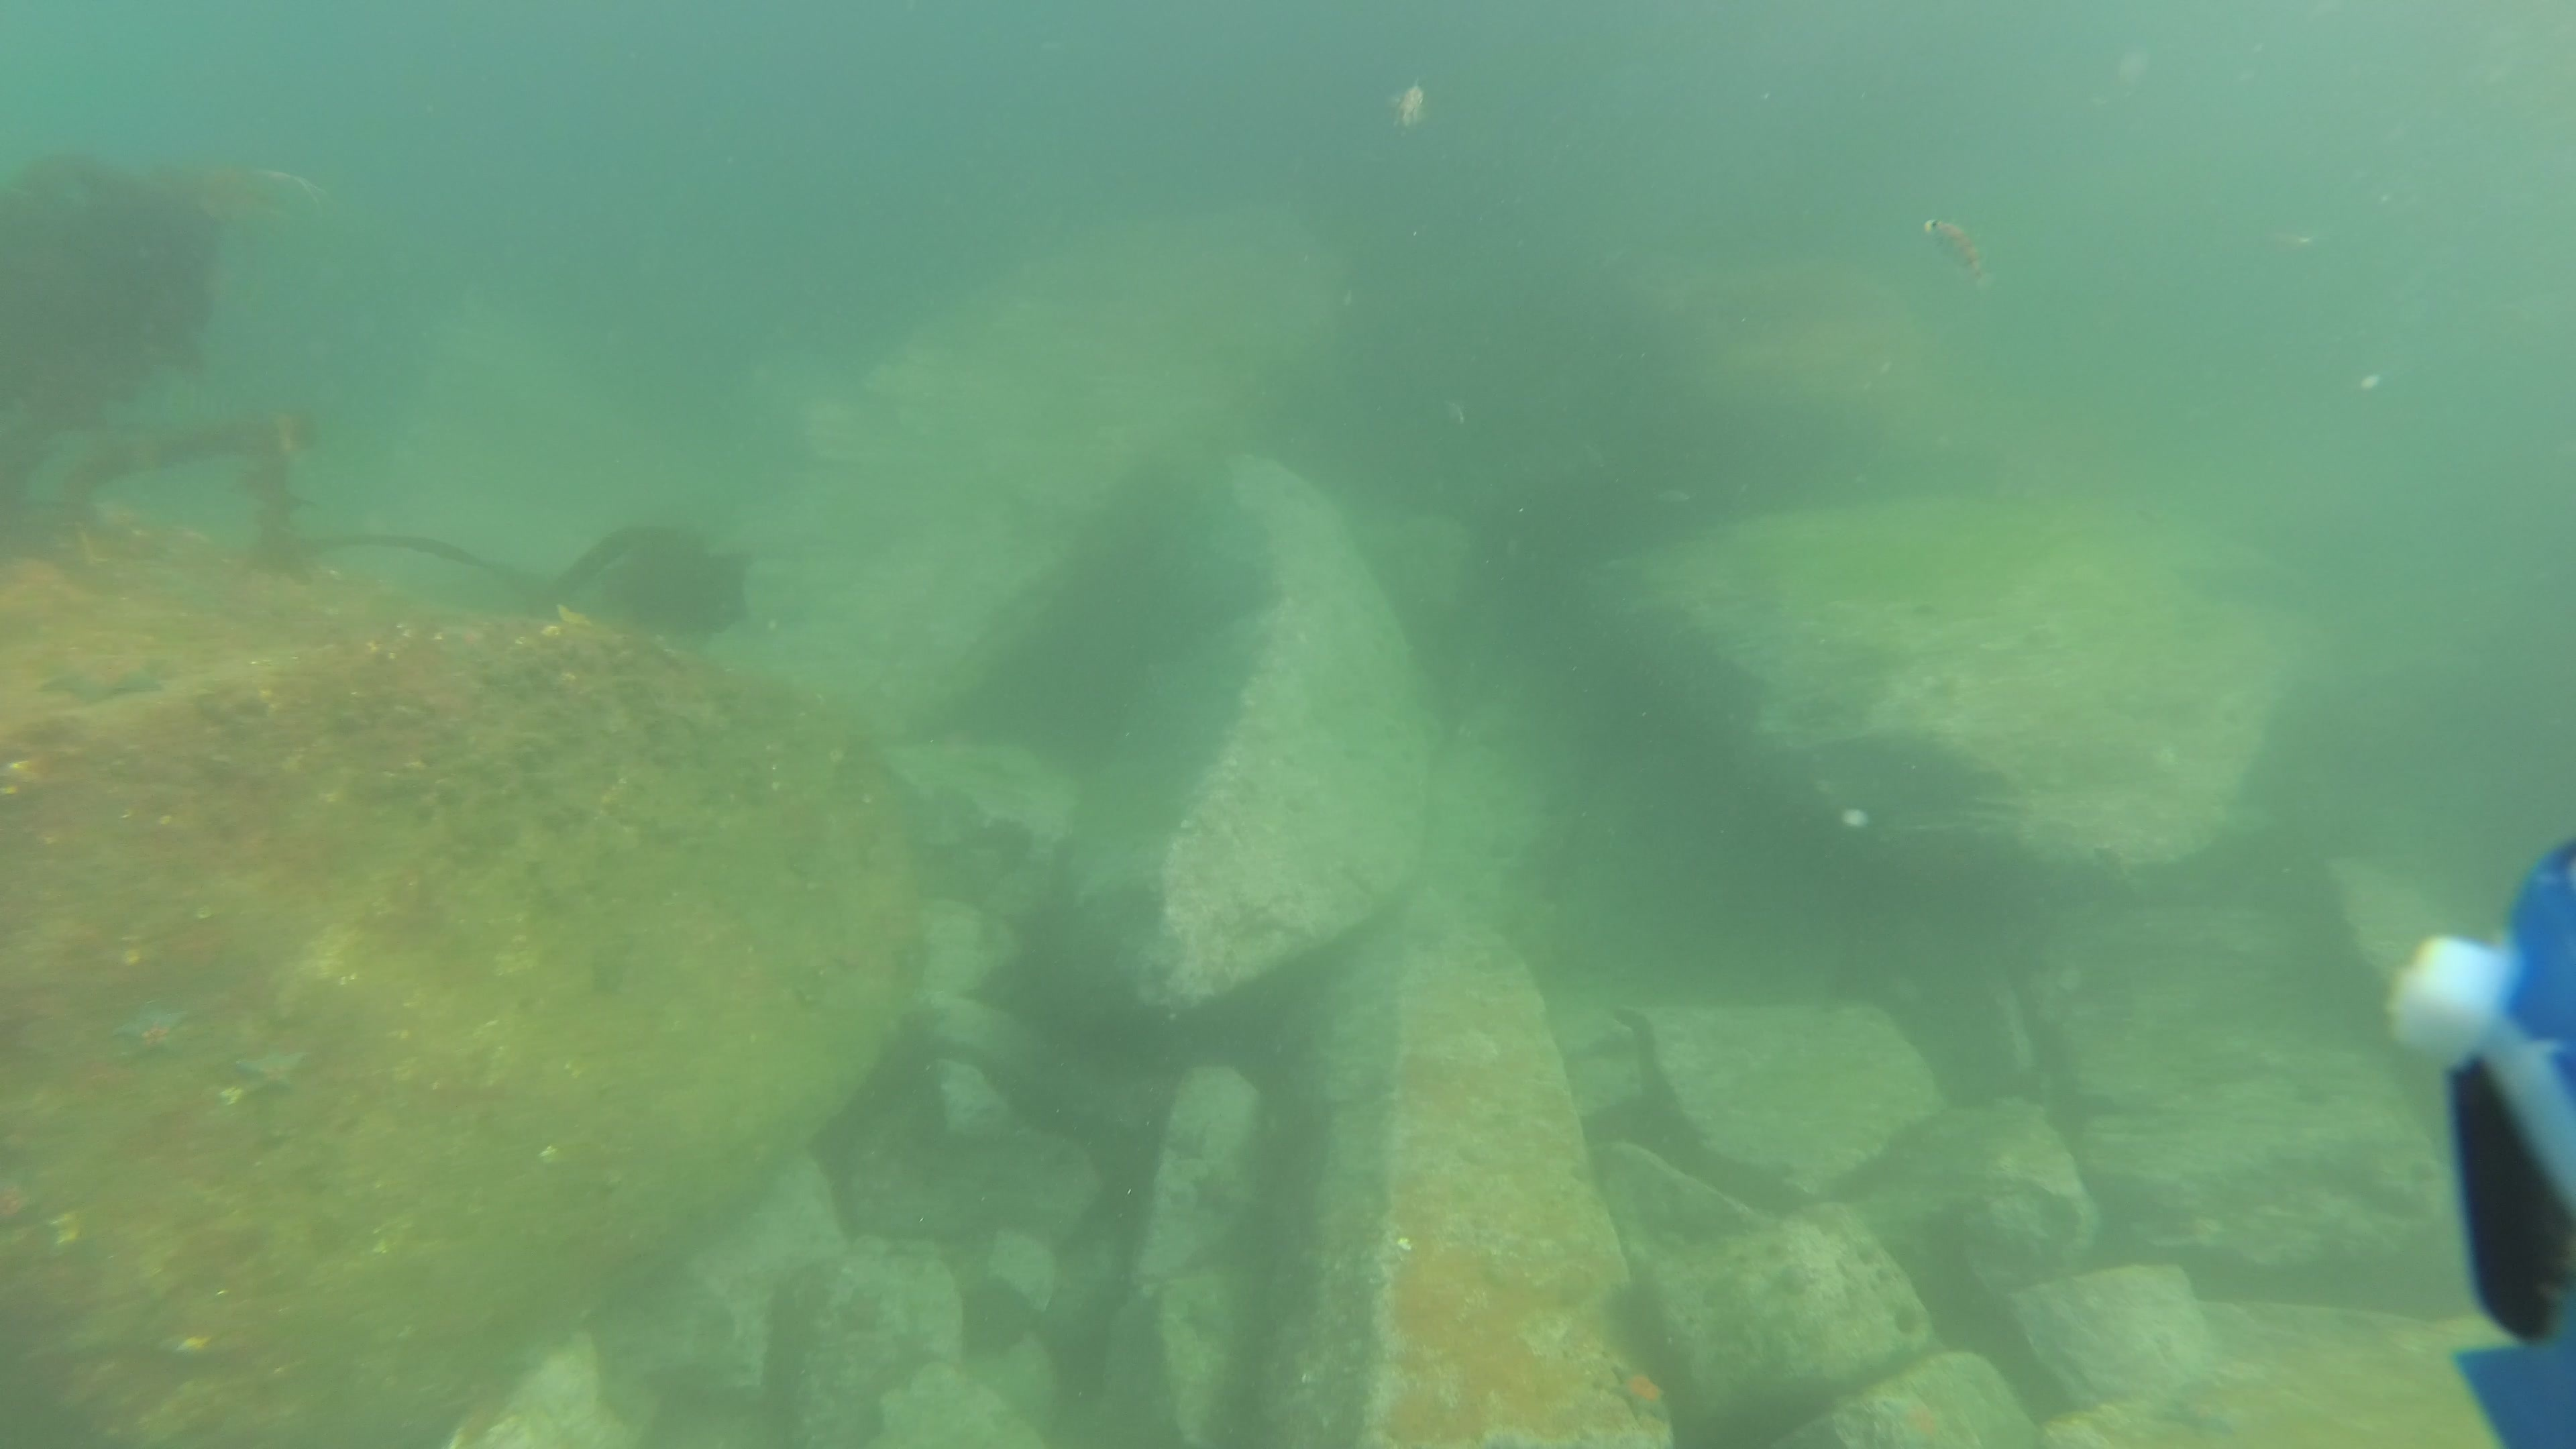starfish: (39, 648, 182, 713), (234, 1031, 317, 1111), (108, 993, 195, 1069), (2150, 1384, 2256, 1445), (1596, 1353, 1679, 1428), (1877, 1378, 1959, 1449), (830, 1283, 890, 1339), (1177, 1288, 1235, 1343), (1192, 1171, 1238, 1214), (1166, 1125, 1210, 1168)
